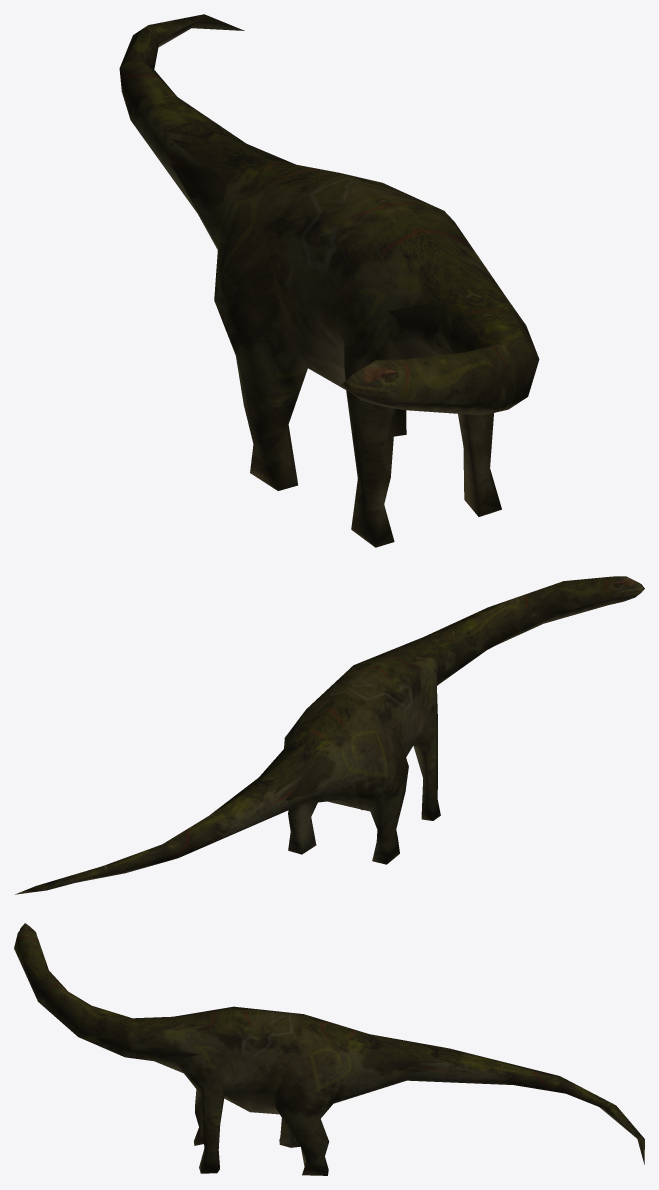
The model's file is dino1.glb.
The picture shows the model from 3 angles, top to bottom: view 1: azimuth 30°, elevation 25°; view 2: azimuth 150°, elevation 25°; view 3: azimuth 270°, elevation 25°; orthographic projection. The views are drawn at different scales.
Parts seen in each view (by area): view 1: bodyAR_002; view 2: bodyAR_002; view 3: bodyAR_002.
Part boxes in pixels (<box>): bodyAR_002: <box>119,14,539,547</box>; bodyAR_002: <box>15,576,644,894</box>; bodyAR_002: <box>14,923,644,1175</box>.
Size of the model in its own units: 4.01 by 2.62 by 8.45.
Materials: 1 (1 with a texture image).
